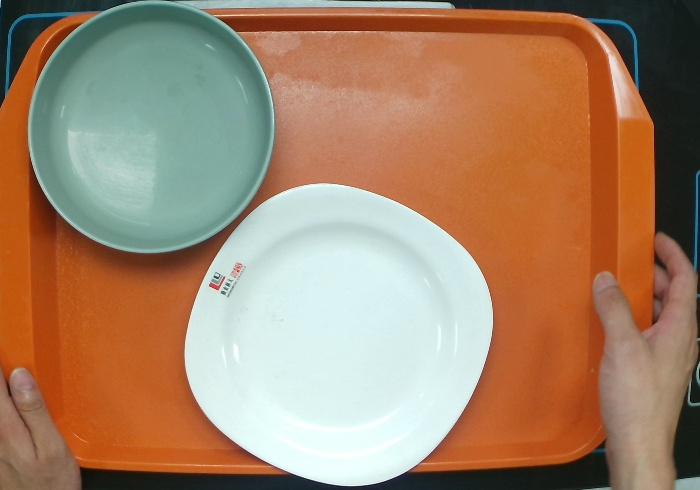ZNLD-Qing_Hua_Yuan_Wan: (26, 1, 276, 255)
ZNLD-Yuan_Jiao_Pan: (182, 182, 495, 490)
